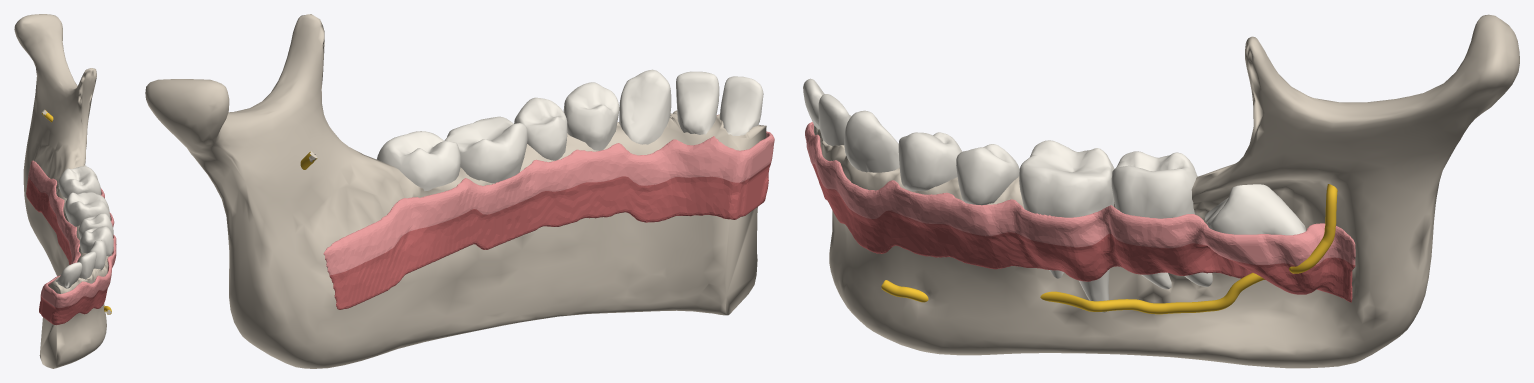
File: impacted-molar.glb
3 renders of one model, left to right at view 1: azimuth 30°, elevation 25°; view 2: azimuth 150°, elevation 25°; view 3: azimuth 270°, elevation 25°, orthographic. The views are drawn at different scales.
Visible parts, largest first — view 1: mandible left, teeth, gum, mucosa, nerve; view 2: mandible left, teeth, mucosa, gum; view 3: mandible left, teeth, gum, mucosa, nerve, wisdom tooth.
Boxes of the visible parts, x1,y1,x2,y2 form: mandible left: [14, 14, 112, 368]; teeth: [55, 166, 113, 288]; gum: [28, 160, 116, 307]; mucosa: [26, 175, 108, 325]; nerve: [41, 109, 111, 314]; mandible left: [145, 14, 766, 368]; teeth: [376, 69, 763, 191]; mucosa: [329, 163, 770, 309]; gum: [323, 114, 774, 275]; mandible left: [814, 14, 1519, 368]; teeth: [803, 78, 1212, 312]; gum: [805, 122, 1355, 265]; mucosa: [812, 164, 1355, 302]; nerve: [881, 184, 1337, 314]; wisdom tooth: [1205, 184, 1306, 235].
Bounding box in the file's own units: 0.0933 × 0.1057 × 0.1665.
